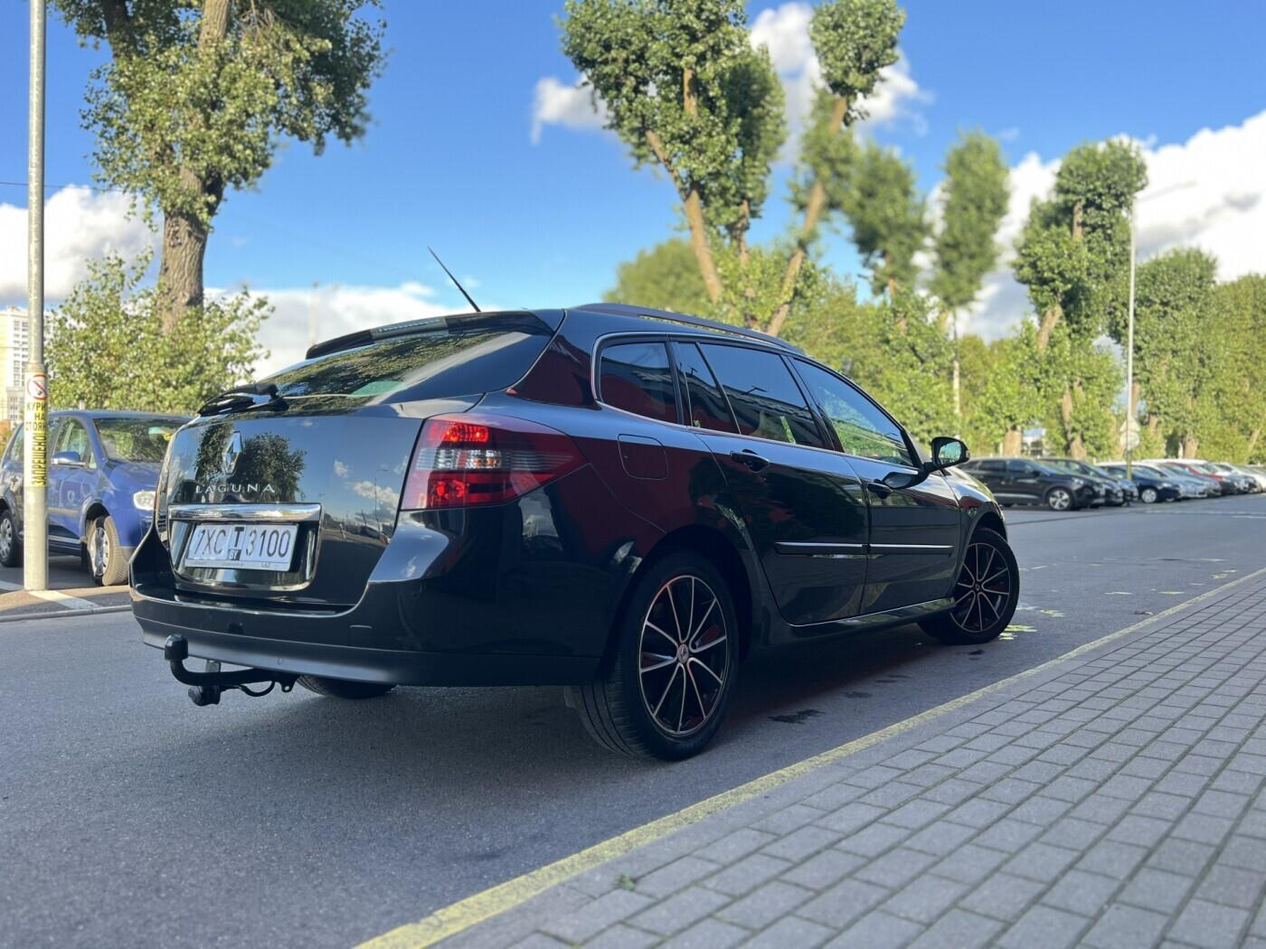Laguna_2010-2015: (124, 310, 1032, 764)
